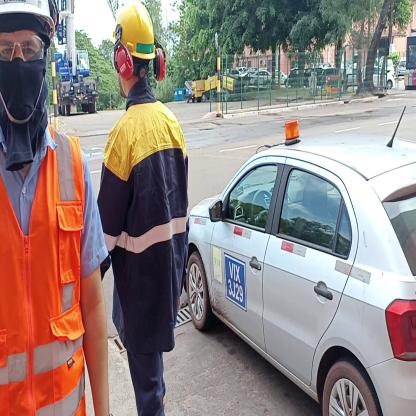Balaclava: (0, 13, 50, 145)
C_eletrica: (109, 107, 185, 344)
Capacete: (112, 2, 162, 61)
colete: (0, 126, 92, 411)
